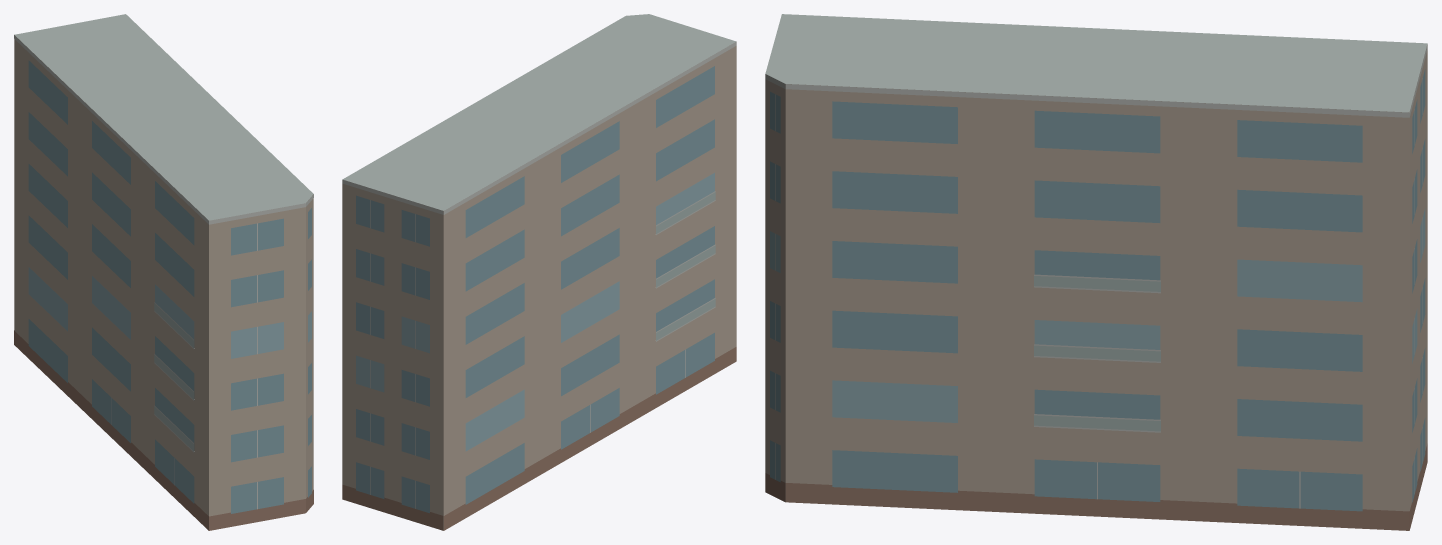
Rendered from survey-upis-32945745.glb.
3 renders of one model, left to right at view 1: azimuth 30°, elevation 25°; view 2: azimuth 150°, elevation 25°; view 3: azimuth 270°, elevation 25°, orthographic. The views are drawn at different scales.
Parts seen in each view (by area): view 1: survey-upis-32945745.tmp; view 2: survey-upis-32945745.tmp; view 3: survey-upis-32945745.tmp.
Boxes of the visible parts, x1,y1,x2,y2 form: survey-upis-32945745.tmp: (14, 14, 313, 530); survey-upis-32945745.tmp: (342, 14, 736, 530); survey-upis-32945745.tmp: (765, 14, 1427, 530).
Size of the model in its own units: 9.65 by 19.1 by 27.41.
